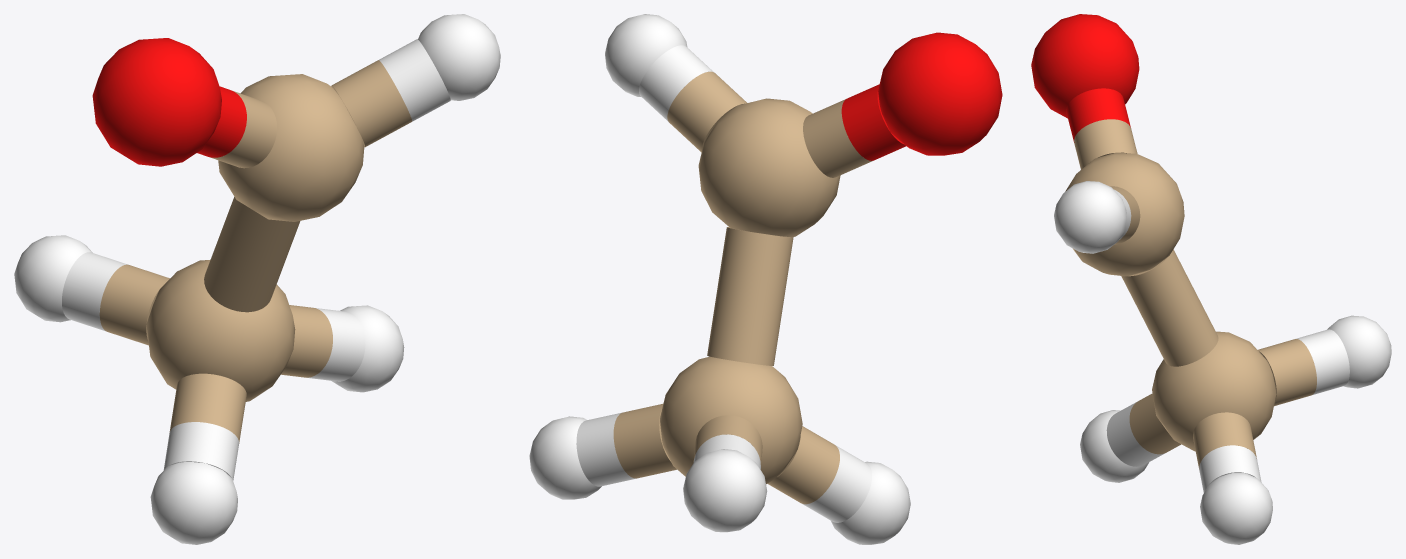
Rendered from Acetaldehyde.dae.
3 renders of one model, left to right at view 1: azimuth 30°, elevation 25°; view 2: azimuth 150°, elevation 25°; view 3: azimuth 270°, elevation 25°, orthographic. The views are drawn at different scales.
Parts seen in each view (by area): view 1: subnode_1, subnode_2, subnode_0, subnode_7, subnode_4, subnode_6, subnode_5, subnode_16, subnode_12, subnode_10, subnode_3, subnode_17 (+6 smaller); view 2: subnode_1, subnode_2, subnode_0, subnode_7, subnode_5, subnode_6, subnode_3, subnode_4, subnode_16, subnode_8, subnode_10, subnode_14 (+6 smaller); view 3: subnode_0, subnode_2, subnode_1, subnode_7, subnode_6, subnode_3, subnode_5, subnode_12, subnode_4, subnode_13, subnode_14, subnode_8 (+5 smaller).
Boxes of the visible parts, box(x1,y1,x2,y2) form: subnode_1: box(218, 74, 364, 221); subnode_2: box(92, 38, 221, 166); subnode_0: box(146, 259, 295, 401); subnode_7: box(204, 197, 300, 312); subnode_4: box(150, 462, 237, 544); subnode_6: box(418, 14, 500, 100); subnode_5: box(14, 235, 92, 322); subnode_16: box(331, 60, 412, 147); subnode_12: box(99, 264, 169, 345); subnode_10: box(169, 373, 246, 443); subnode_3: box(331, 305, 404, 392); subnode_17: box(379, 39, 450, 121); subnode_1: box(698, 98, 840, 237); subnode_2: box(878, 32, 1002, 155); subnode_0: box(660, 356, 802, 484); subnode_7: box(707, 227, 793, 365); subnode_5: box(683, 449, 767, 532); subnode_6: box(605, 14, 687, 96); subnode_3: box(529, 416, 601, 499); subnode_4: box(831, 461, 910, 544); subnode_16: box(667, 71, 746, 152); subnode_8: box(613, 404, 676, 478); subnode_10: box(767, 426, 839, 504); subnode_14: box(803, 99, 872, 177); subnode_0: box(1152, 331, 1276, 451); subnode_2: box(1031, 14, 1139, 118); subnode_1: box(1065, 152, 1184, 276); subnode_7: box(1121, 249, 1218, 366); subnode_6: box(1054, 181, 1126, 253); subnode_3: box(1200, 473, 1272, 544); subnode_5: box(1327, 315, 1391, 388); subnode_12: box(1258, 339, 1316, 406); subnode_4: box(1080, 410, 1148, 482); subnode_13: box(1296, 329, 1349, 394); subnode_14: box(1074, 119, 1137, 169); subnode_8: box(1193, 412, 1256, 469).
Size of the model in its own units: 2.6 by 3.28 by 2.45.
